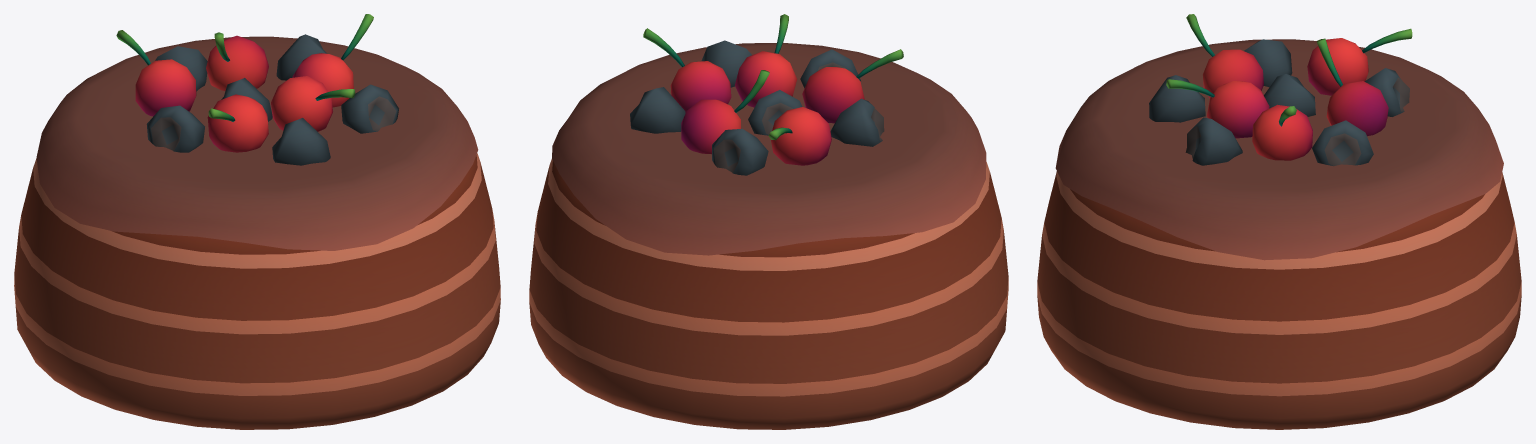
File: cake_001.fbx
3 views of the same model, side by side, from view 1: azimuth 30°, elevation 25°; view 2: azimuth 150°, elevation 25°; view 3: azimuth 270°, elevation 25° (orthographic).
Visible parts, largest first — view 1: cake_001; view 2: cake_001; view 3: cake_001.
Part boxes in pixels (x1=…): cake_001: x1=14, y1=14, x2=500, y2=429; cake_001: x1=529, y1=14, x2=1008, y2=429; cake_001: x1=1037, y1=14, x2=1521, y2=429.
Bounding box in the file's own units: 22.47 × 22.47 × 14.85.
